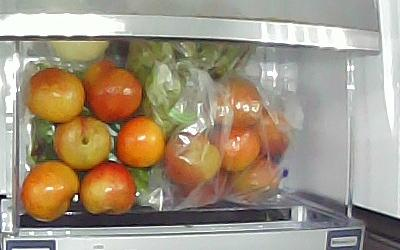prune: (83, 60, 142, 122), (22, 161, 81, 223), (23, 67, 85, 123), (54, 116, 113, 170), (81, 161, 138, 216), (117, 115, 165, 169)
prune_vinyl: (165, 127, 223, 185), (211, 77, 263, 129), (212, 126, 261, 174), (229, 158, 279, 201), (181, 169, 228, 203), (258, 112, 292, 158)
